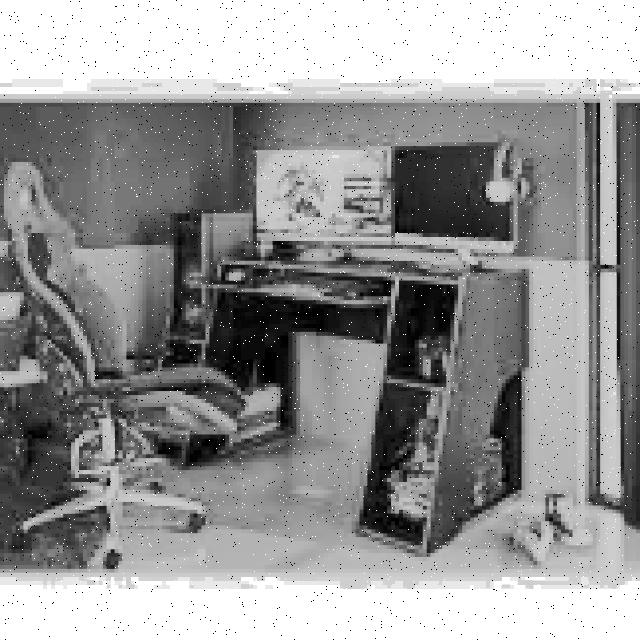book: (4, 158, 249, 569)
table: (155, 239, 566, 544)
